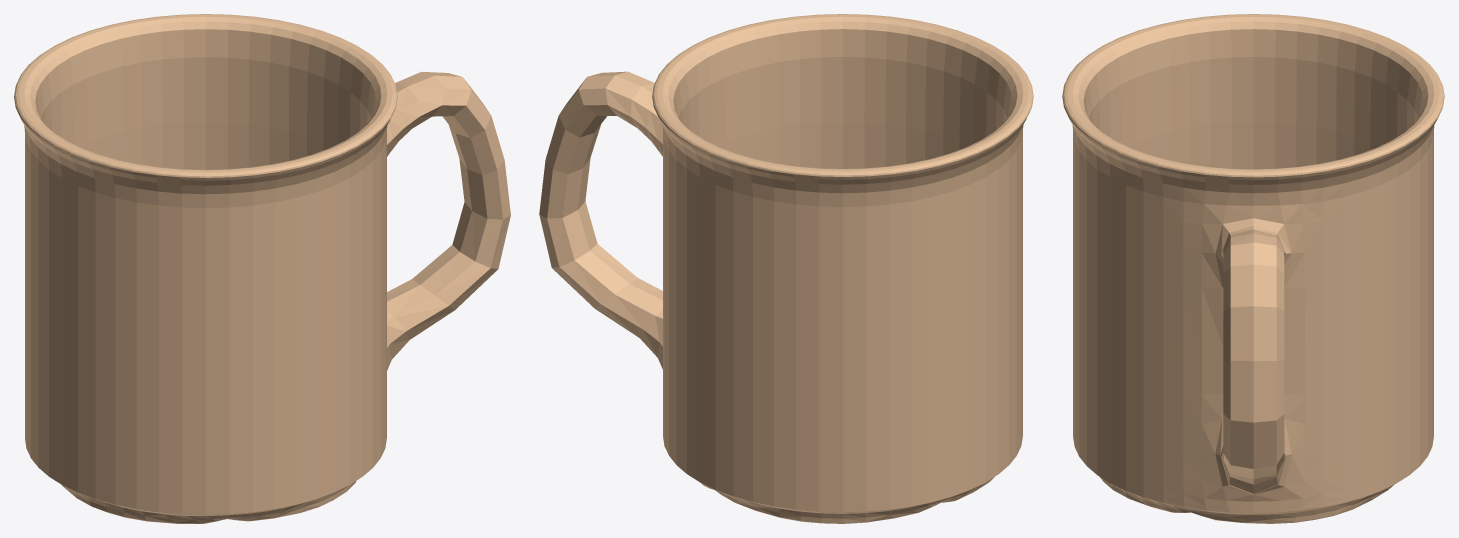
Rendered from caspian_mug.glb.
3 renders of one model, left to right at view 1: azimuth 30°, elevation 25°; view 2: azimuth 150°, elevation 25°; view 3: azimuth 270°, elevation 25°, orthographic.
Visible parts, largest first — view 1: Mug; view 2: Mug; view 3: Mug.
Part boxes in pixels (bbox=[...]): Mug: bbox=[14, 14, 510, 523]; Mug: bbox=[539, 14, 1033, 523]; Mug: bbox=[1062, 14, 1444, 523].
Bounding box in the file's own units: 245 × 184 × 175.
